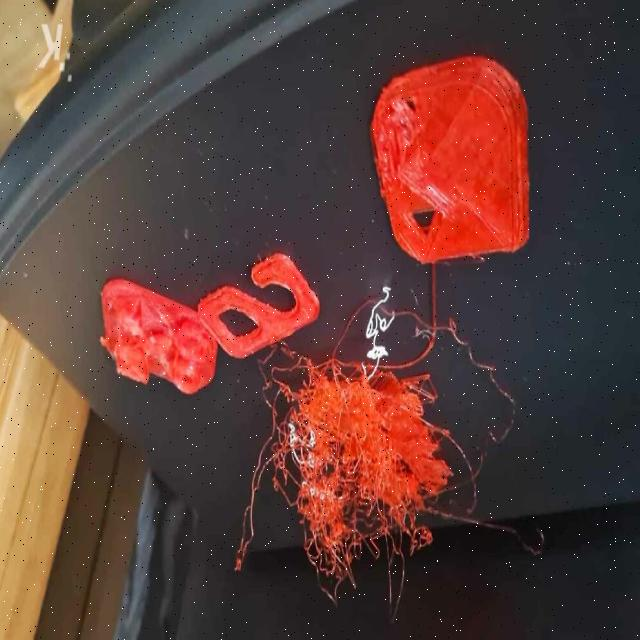spaghetti: (235, 353, 530, 620)
